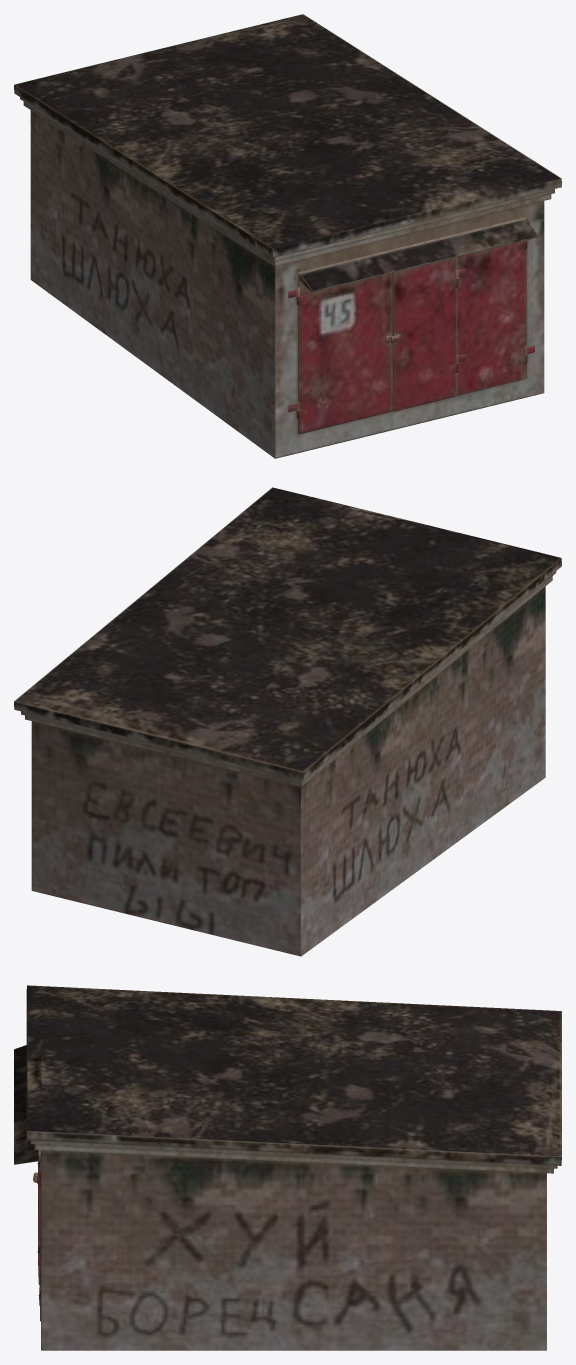
Rendered from garage_concrete_45.glb.
The picture shows the model from 3 angles, top to bottom: view 1: azimuth 30°, elevation 25°; view 2: azimuth 150°, elevation 25°; view 3: azimuth 270°, elevation 25°; orthographic projection. The views are drawn at different scales.
Parts seen in each view (by area): view 1: garage_concrete_45; view 2: garage_concrete_45; view 3: garage_concrete_45.
Boxes of the visible parts, x1,y1,x2,y2 form: garage_concrete_45: (14, 14, 561, 458); garage_concrete_45: (14, 487, 561, 956); garage_concrete_45: (14, 985, 561, 1350).
Bounding box in the file's own units: 3.8 × 2.78 × 6.02.
Materials: 1 (1 with a texture image).
